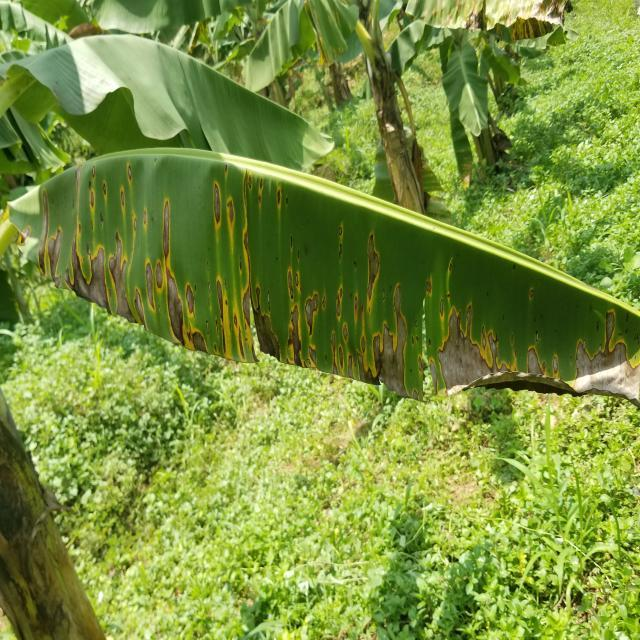Early_rust: (25, 148, 634, 425), (415, 0, 584, 58)
